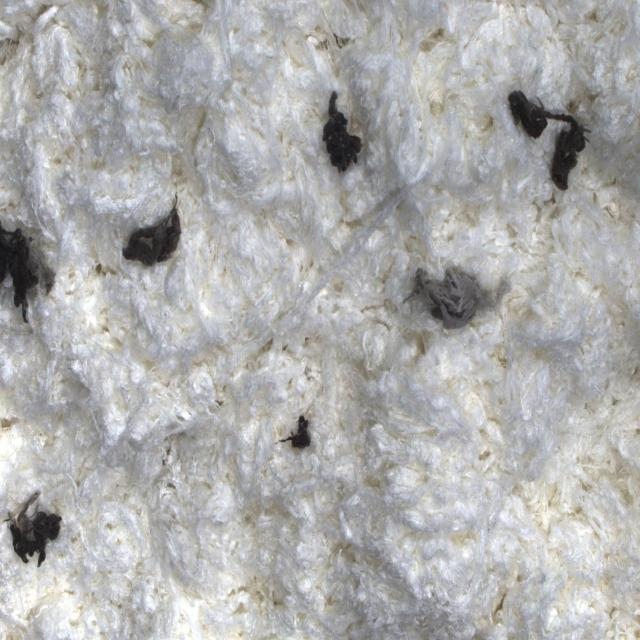dust: (493, 60, 603, 224), (91, 190, 190, 285), (405, 254, 506, 332), (316, 69, 379, 186), (1, 483, 72, 583), (0, 215, 55, 329), (264, 404, 332, 468)
